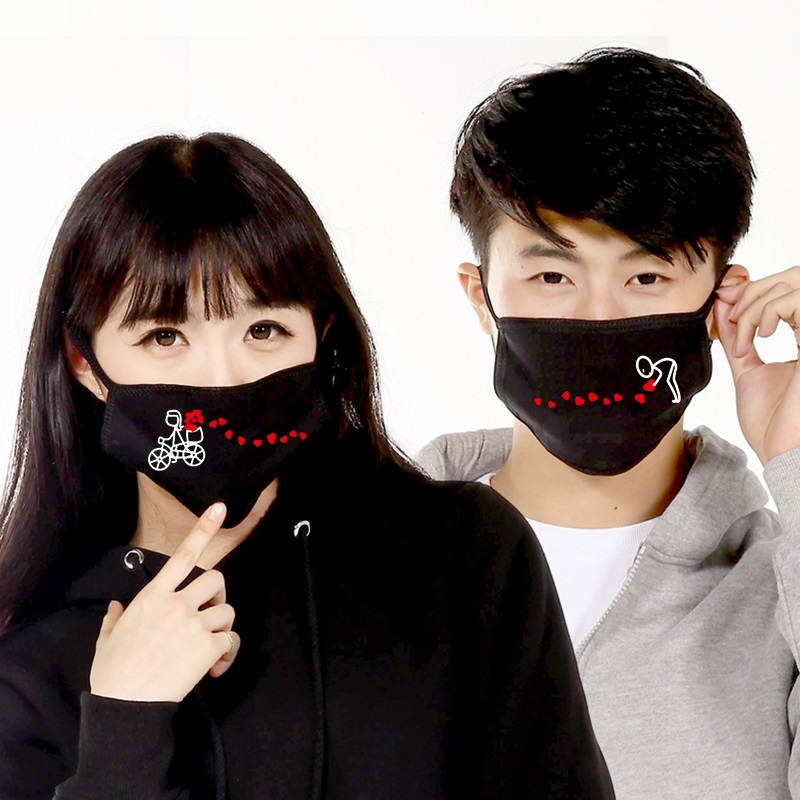face_mask: (93, 226, 317, 494), (485, 168, 705, 433)
